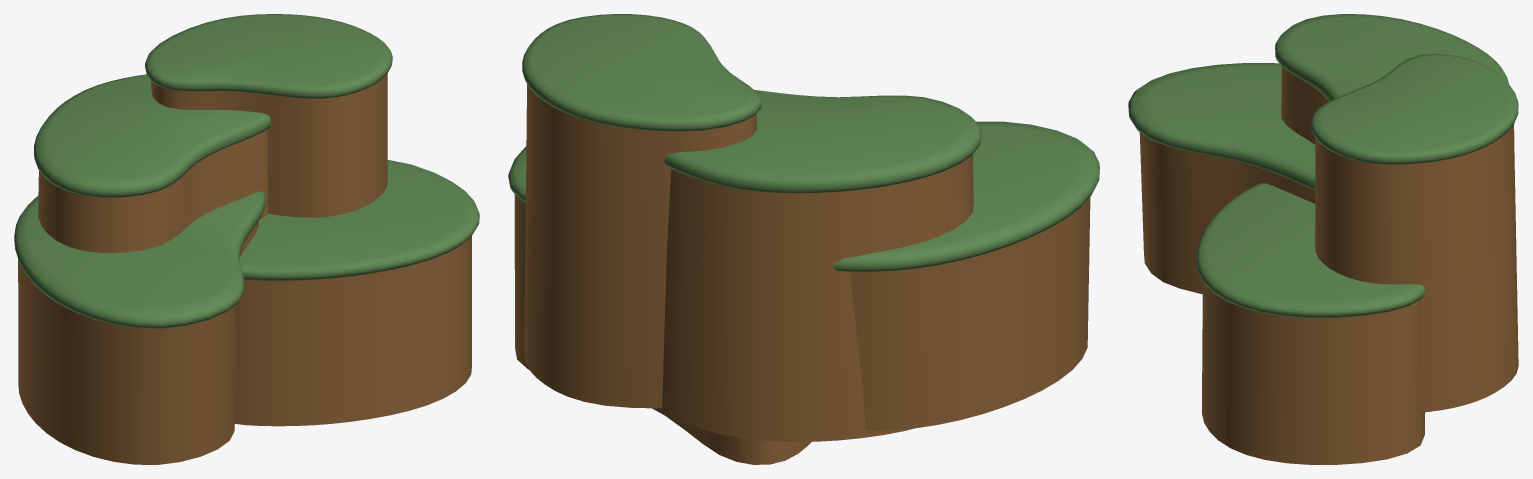
The model's file is mountain.fbx.
The picture shows the model from 3 angles, left to right: view 1: azimuth 30°, elevation 25°; view 2: azimuth 150°, elevation 25°; view 3: azimuth 270°, elevation 25°; orthographic projection. The views are drawn at different scales.
Visible parts, largest first — view 1: moutain; view 2: moutain; view 3: moutain.
Boxes of the visible parts, x1,y1,x2,y2 form: moutain: [14, 14, 479, 464]; moutain: [508, 14, 1099, 464]; moutain: [1128, 14, 1518, 464].
Bounding box in the file's own units: 10.68 × 6.63 × 8.03.
